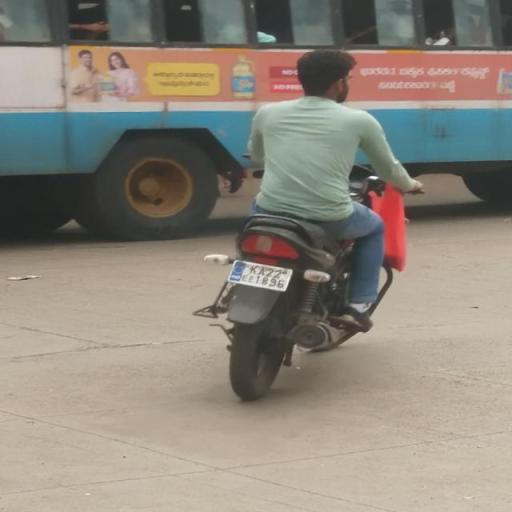bike: (190, 42, 440, 412)
numberplate: (230, 256, 294, 298)
withouthelmet: (300, 52, 356, 96)
